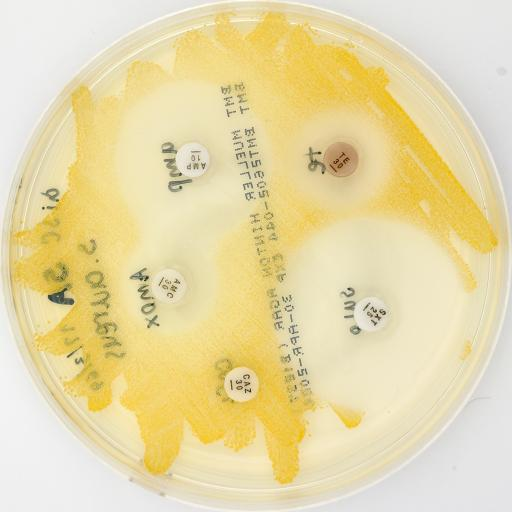disc: (176, 142, 211, 178), (152, 269, 187, 305), (325, 142, 359, 178), (225, 367, 259, 402), (354, 298, 388, 332)
